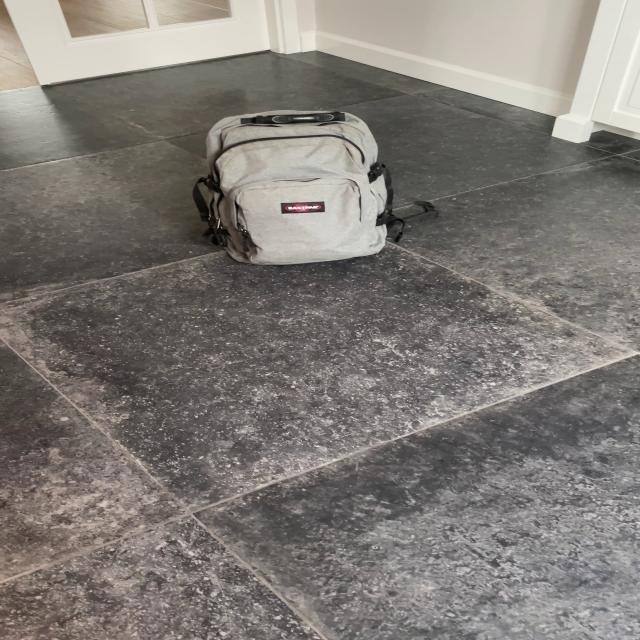backpack: (182, 102, 404, 270)
